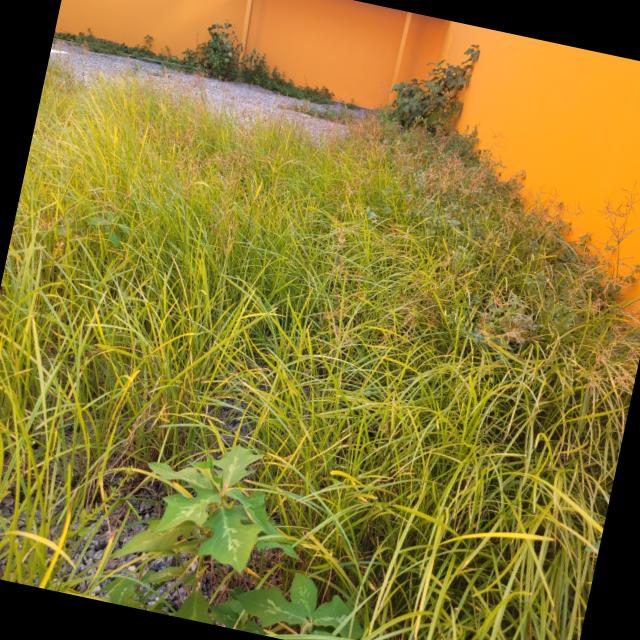cyperus: (379, 240, 466, 358), (313, 254, 373, 350), (580, 319, 640, 399), (591, 172, 640, 266), (157, 119, 215, 193), (475, 284, 536, 354), (317, 164, 371, 242), (528, 182, 588, 244), (418, 132, 468, 195), (199, 194, 245, 256), (223, 122, 264, 177), (486, 184, 526, 236), (586, 272, 626, 321), (94, 172, 136, 218), (386, 138, 426, 186), (372, 212, 408, 262), (560, 259, 591, 316), (206, 148, 239, 192), (49, 204, 73, 260), (187, 56, 214, 95), (367, 128, 394, 166), (400, 186, 430, 220), (156, 64, 183, 100), (29, 200, 58, 233), (321, 112, 346, 150), (362, 108, 388, 144), (268, 88, 292, 126), (132, 143, 160, 174), (291, 94, 313, 132), (339, 112, 366, 140), (463, 166, 488, 196), (121, 84, 148, 108), (188, 92, 210, 120), (616, 299, 640, 324), (142, 116, 162, 143), (128, 110, 147, 136), (348, 144, 368, 168), (142, 68, 160, 94), (486, 128, 505, 152), (268, 144, 290, 164), (270, 174, 287, 198), (62, 44, 76, 70), (287, 188, 301, 210), (77, 38, 92, 58), (259, 153, 268, 169), (54, 38, 63, 52)
